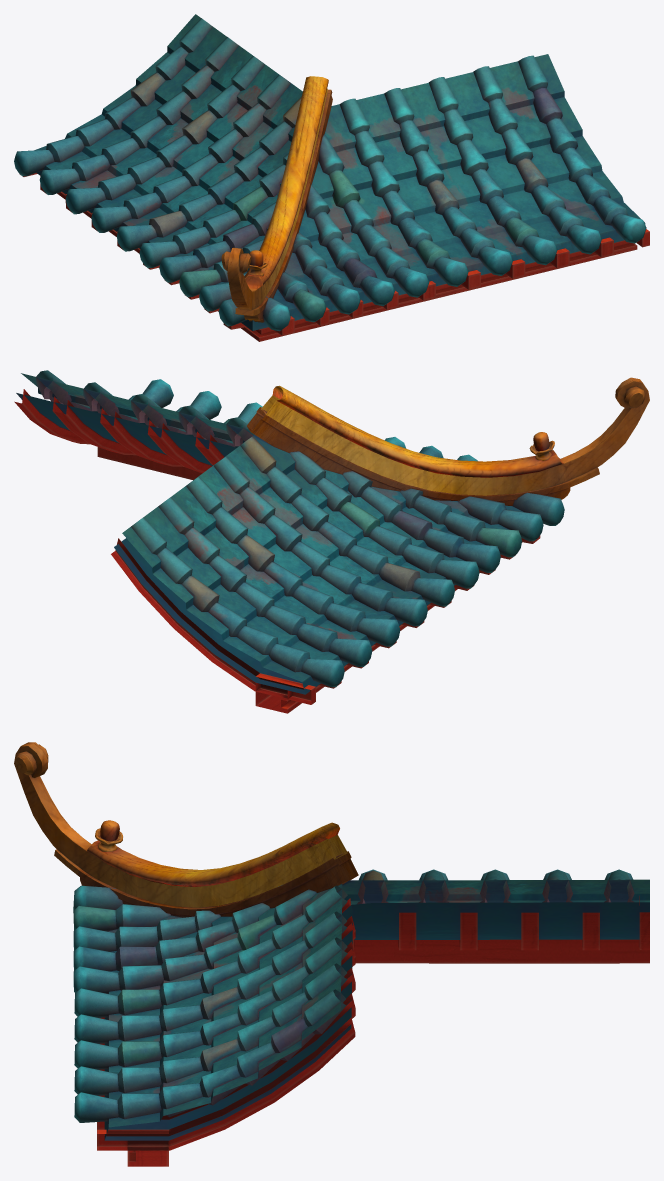
The model's file is SM_SmallRoof_Angle.glb.
The picture shows the model from 3 angles, top to bottom: view 1: azimuth 30°, elevation 25°; view 2: azimuth 150°, elevation 25°; view 3: azimuth 270°, elevation 25°; orthographic projection. The views are drawn at different scales.
Visible parts, largest first — view 1: SM_SmallRoof_Angle_LOD0; view 2: SM_SmallRoof_Angle_LOD0; view 3: SM_SmallRoof_Angle_LOD0.
Part boxes in pixels (x1=…): SM_SmallRoof_Angle_LOD0: x1=14, y1=14, x2=649, y2=341; SM_SmallRoof_Angle_LOD0: x1=14, y1=370, x2=649, y2=713; SM_SmallRoof_Angle_LOD0: x1=14, y1=742, x2=649, y2=1166.
Size of the model in its own units: 2.3 by 0.8339 by 2.33.
1 material, 1 textured.
